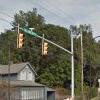Traffic light: (13, 21, 54, 61)
